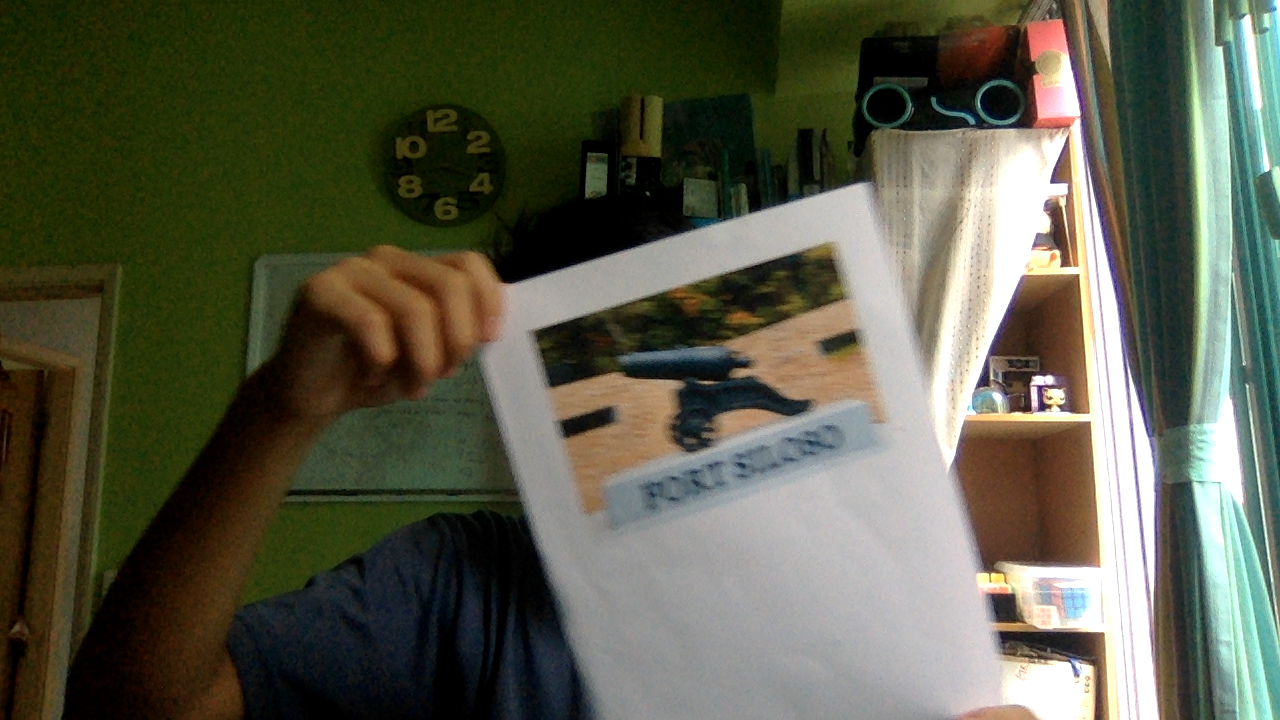siloso: (563, 289, 894, 521)
